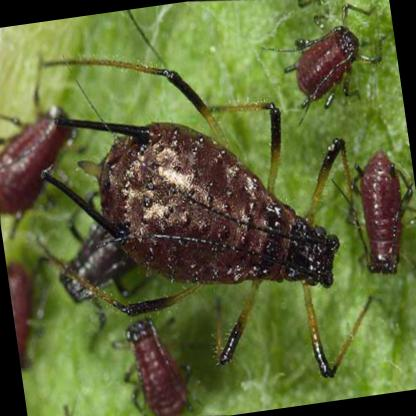uroleucon compositae: (38, 73, 342, 377)
